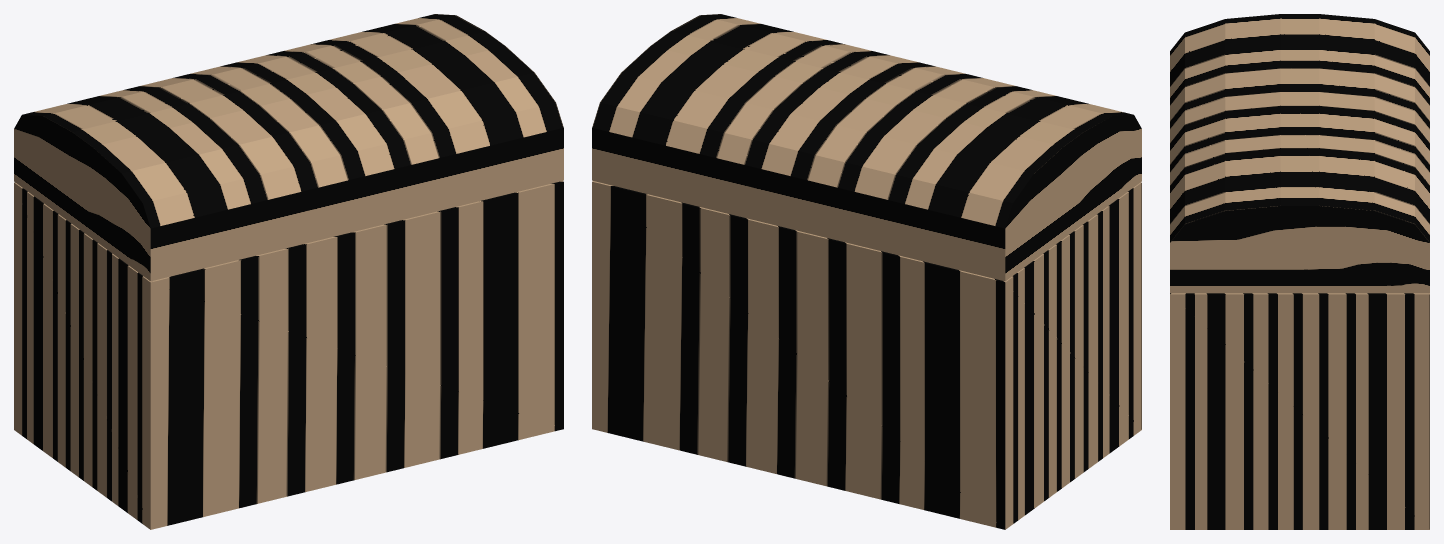
The model's file is Toy Chest.fbx.
3 renders of one model, left to right at view 1: azimuth 30°, elevation 25°; view 2: azimuth 150°, elevation 25°; view 3: azimuth 270°, elevation 25°, orthographic. The views are drawn at different scales.
Visible parts, largest first — view 1: toy chest, Lid toy chest close; view 2: toy chest, Lid toy chest close; view 3: Lid toy chest close, toy chest.
Boxes of the visible parts, x1,y1,x2,y2 form: toy chest: (14, 181, 563, 529); Lid toy chest close: (14, 14, 563, 281); toy chest: (592, 181, 1141, 529); Lid toy chest close: (592, 14, 1141, 281); Lid toy chest close: (1170, 14, 1429, 293); toy chest: (1170, 293, 1429, 529).
Size of the model in its own units: 349 by 275 by 200.
1 material, 1 textured.
